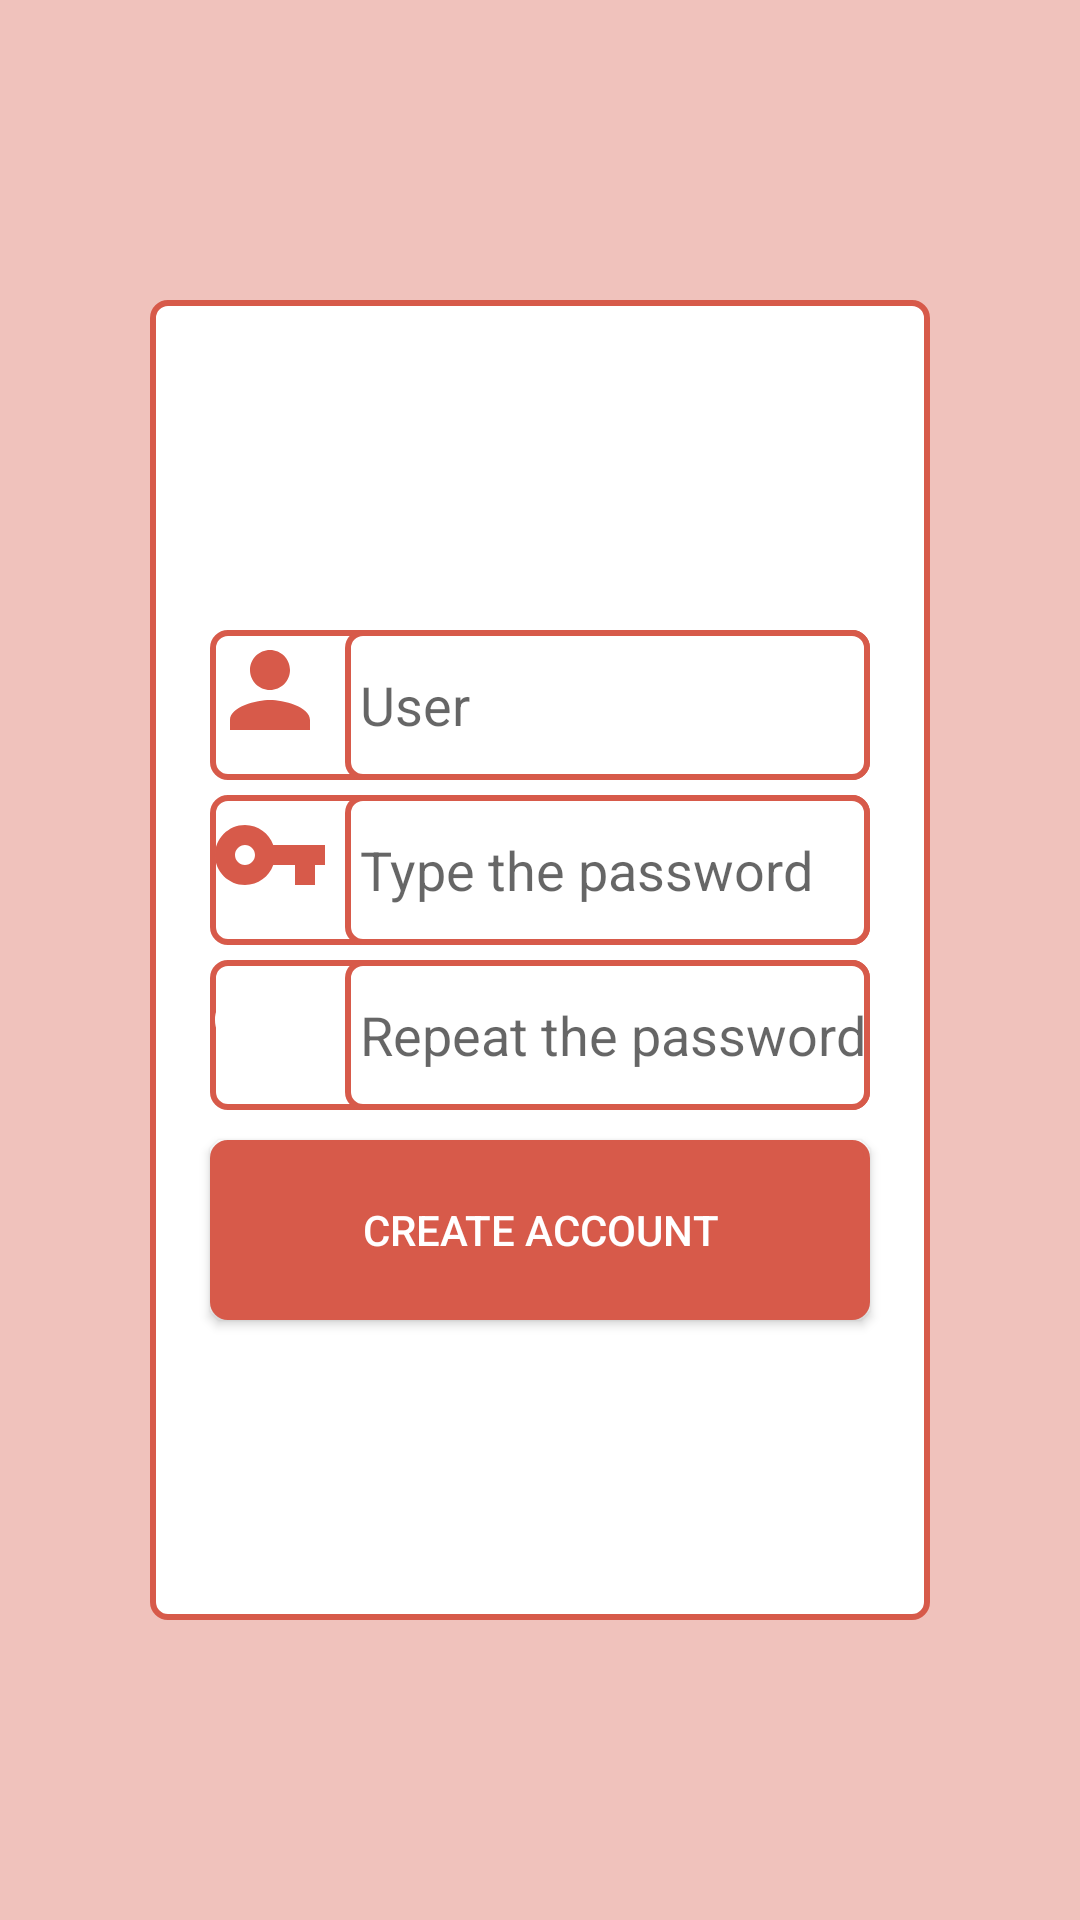

Icons on this 1080 × 1920 Android screen, each with the point to tap as point (x, y):
person: point (270, 690)
